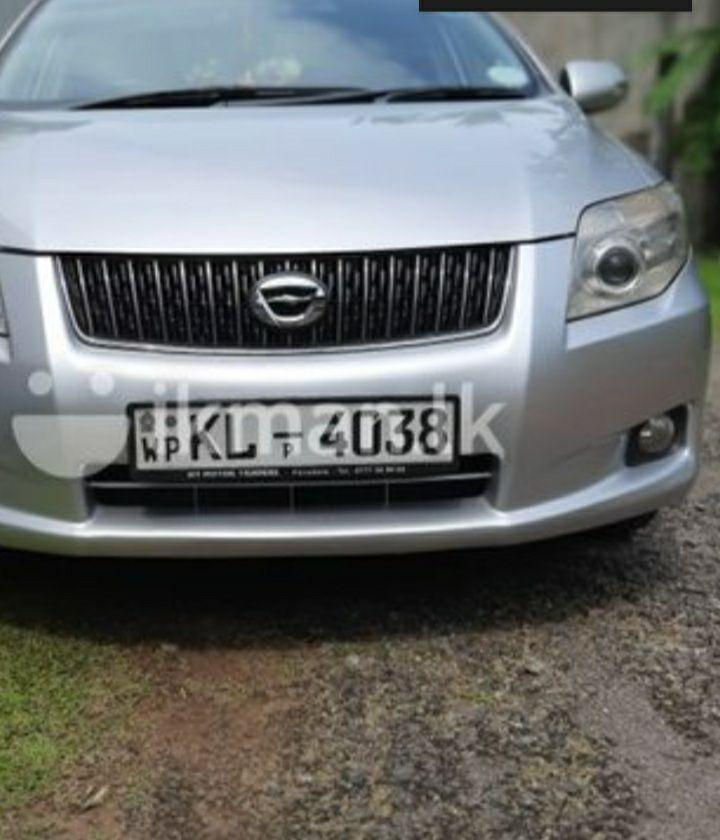license-plate: (133, 405, 453, 463)
